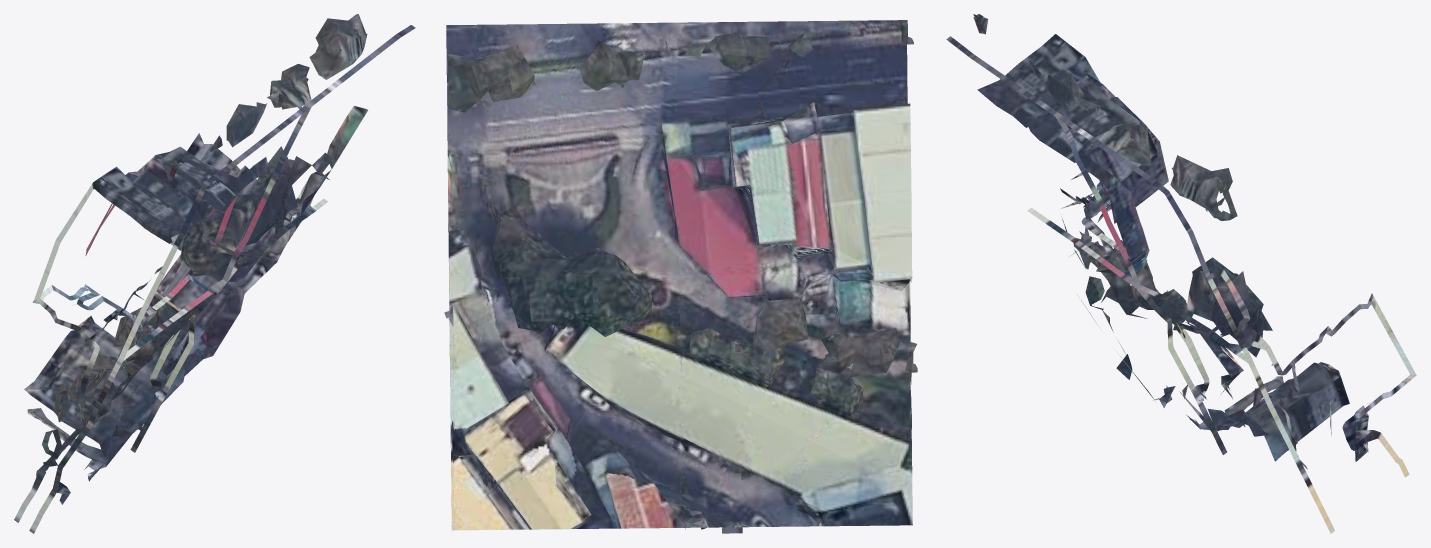
3 renders of one model, left to right at view 1: azimuth 30°, elevation 25°; view 2: azimuth 150°, elevation 25°; view 3: azimuth 270°, elevation 25°, orthographic. The views are drawn at different scales.
Bounding box in the file's own units: 77.98 × 72.8 × 76.99.
1 material, 1 textured.
